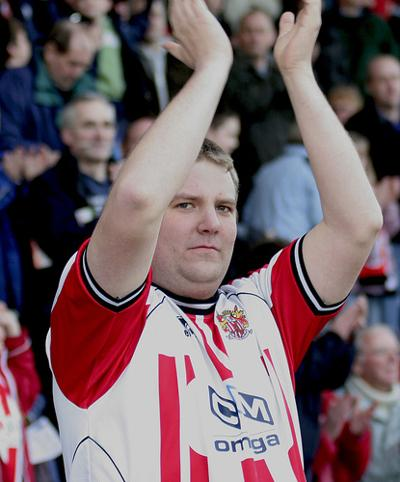person: (45, 4, 387, 482)
